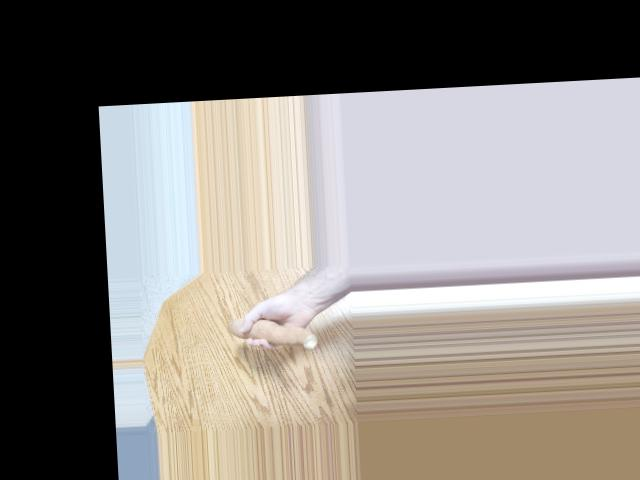sweet_potato: (236, 309, 324, 349)
